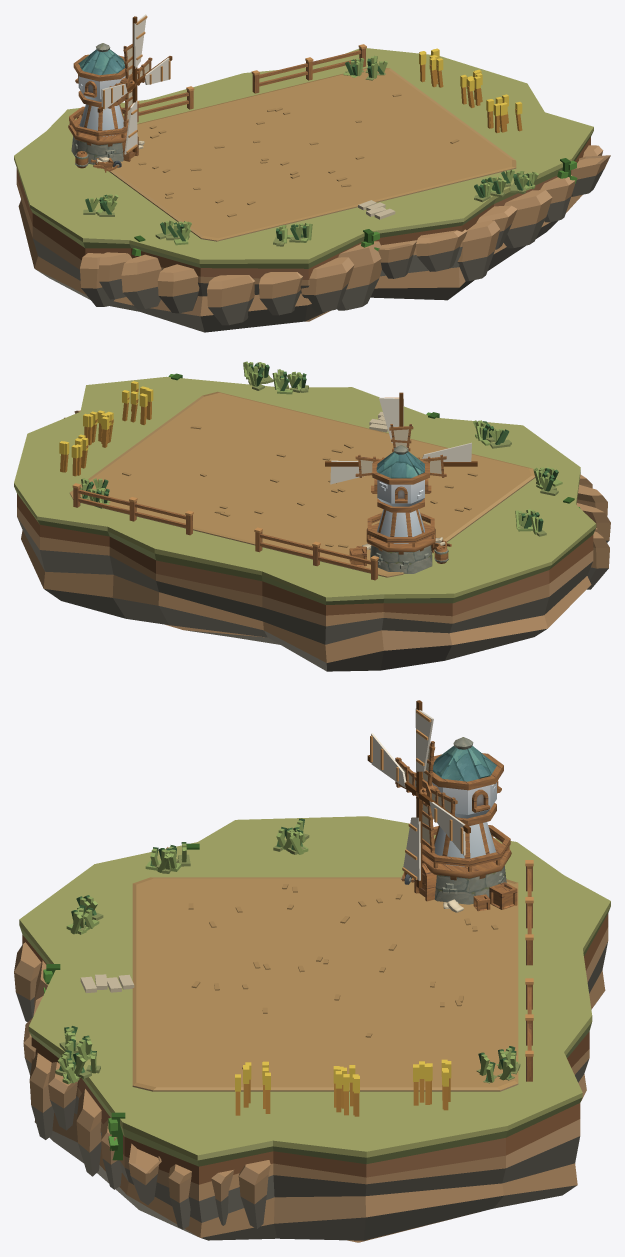
Rendered from island-windmill.glb.
The picture shows the model from 3 angles, top to bottom: view 1: azimuth 30°, elevation 25°; view 2: azimuth 150°, elevation 25°; view 3: azimuth 270°, elevation 25°; orthographic projection. The views are drawn at different scales.
Visible parts, largest first — view 1: Island, Yard, building_windmill_blue, Weathered outcrop.013, Weathered outcrop.010, Weathered outcrop.011, Weathered outcrop.005, Weathered outcrop.007, Weathered outcrop.015, Weathered outcrop.014, Weathered outcrop.012, Weathered outcrop.008 (+8 smaller); view 2: Island, Yard, building_windmill_blue, Weathered outcrop.017, FlaxCanvas.003, FlaxCanvas, Weathered outcrop.014, Weathered outcrop.015, FenceRail, FenceRail.001, FenceRail.003, FenceRail.002 (+1 smaller); view 3: Island, Yard, building_windmill_blue, Weathered outcrop.005, Weathered outcrop, Weathered outcrop.007, Weathered outcrop.011, Weathered outcrop.003, Weathered outcrop.006, Weathered outcrop.002, Weathered outcrop.004, FlaxCanvas (+4 smaller).
Part boxes in pixels (x1=…): Island: x1=14, y1=48, x2=593, y2=332; Yard: x1=109, y1=68, x2=516, y2=241; building_windmill_blue: x1=68, y1=43, x2=152, y2=172; Weathered outcrop.013: x1=207, y1=275, x2=255, y2=325; Weathered outcrop.010: x1=337, y1=241, x2=381, y2=310; Weathered outcrop.011: x1=301, y1=257, x2=354, y2=312; Weathered outcrop.005: x1=503, y1=190, x2=552, y2=248; Weathered outcrop.007: x1=457, y1=220, x2=500, y2=281; Weathered outcrop.015: x1=121, y1=254, x2=161, y2=309; Weathered outcrop.014: x1=157, y1=264, x2=199, y2=313; Weathered outcrop.012: x1=259, y1=272, x2=302, y2=315; Weathered outcrop.008: x1=416, y1=229, x2=467, y2=271; Island: x1=14, y1=376, x2=596, y2=671; Yard: x1=69, y1=391, x2=535, y2=577; building_windmill_blue: x1=349, y1=424, x2=451, y2=573; Weathered outcrop.017: x1=587, y1=531, x2=609, y2=589; FlaxCanvas.003: x1=422, y1=442, x2=471, y2=461; FlaxCanvas: x1=379, y1=397, x2=403, y2=443; Weathered outcrop.014: x1=576, y1=484, x2=607, y2=515; Weathered outcrop.015: x1=576, y1=503, x2=610, y2=542; FenceRail: x1=260, y1=542, x2=370, y2=572; FenceRail.001: x1=260, y1=534, x2=370, y2=564; FenceRail.003: x1=78, y1=489, x2=185, y2=519; FenceRail.002: x1=78, y1=498, x2=185, y2=527; Island: x1=19, y1=816, x2=610, y2=1242; Yard: x1=132, y1=877, x2=518, y2=1091; building_windmill_blue: x1=395, y1=737, x2=517, y2=912; Weathered outcrop.005: x1=76, y1=1089, x2=101, y2=1176; Weathered outcrop: x1=238, y1=1160, x2=270, y2=1228; Weathered outcrop.007: x1=29, y1=1053, x2=54, y2=1139; Weathered outcrop.011: x1=14, y1=942, x2=41, y2=1022; Weathered outcrop.003: x1=128, y1=1143, x2=161, y2=1204; Weathered outcrop.006: x1=48, y1=1062, x2=78, y2=1130; Weathered outcrop.002: x1=168, y1=1164, x2=191, y2=1229; Weathered outcrop.004: x1=101, y1=1119, x2=121, y2=1189; FlaxCanvas: x1=415, y1=708, x2=433, y2=771.
Bounding box in the file's own units: 9.33 × 4.44 × 6.87.
46 materials, 5 textured.
